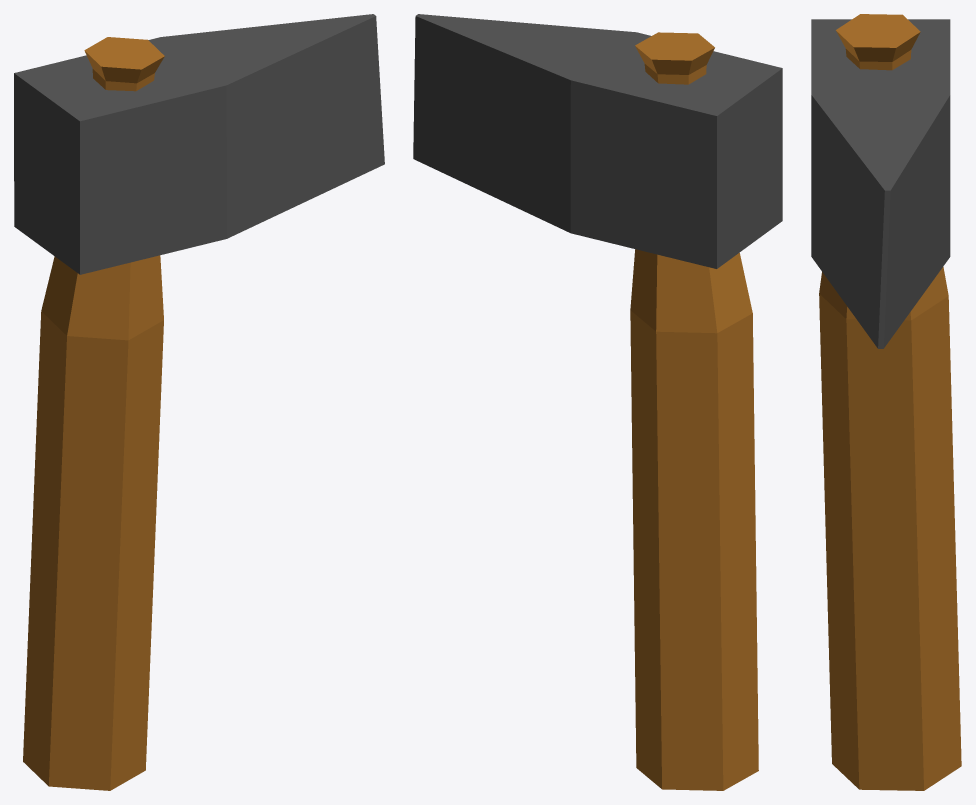
Rendered from Stone axe.fbx.
The picture shows the model from 3 angles, left to right: view 1: azimuth 30°, elevation 25°; view 2: azimuth 150°, elevation 25°; view 3: azimuth 270°, elevation 25°; orthographic projection. The views are drawn at different scales.
Parts seen in each view (by area): view 1: axe.002; view 2: axe.002; view 3: axe.002.
Boxes of the visible parts, x1,y1,x2,y2 form: axe.002: (14,14,384,790); axe.002: (413,14,782,790); axe.002: (811,14,961,790).
Size of the model in its own units: 0.2273 by 0.4565 by 0.0825.
